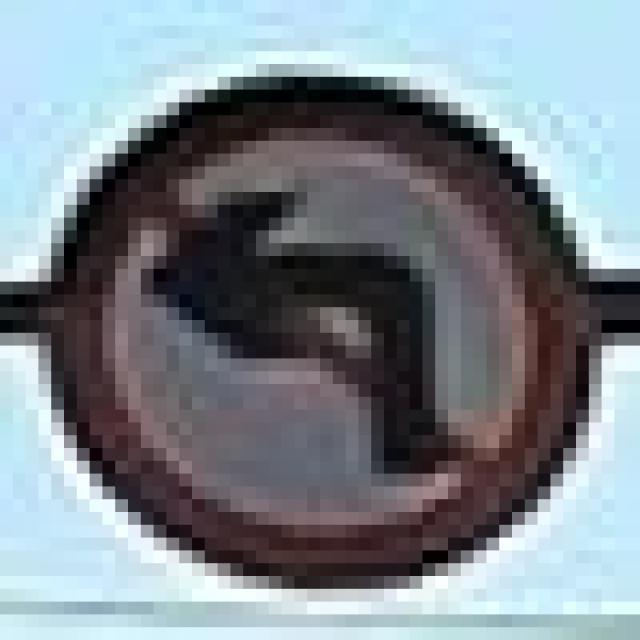left turn prohibited: (64, 62, 588, 578)
